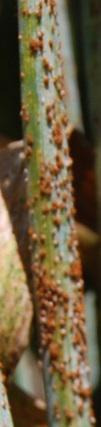Wheat: (11, 4, 97, 427)
